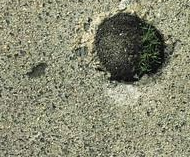Spalling: (94, 12, 165, 85)
